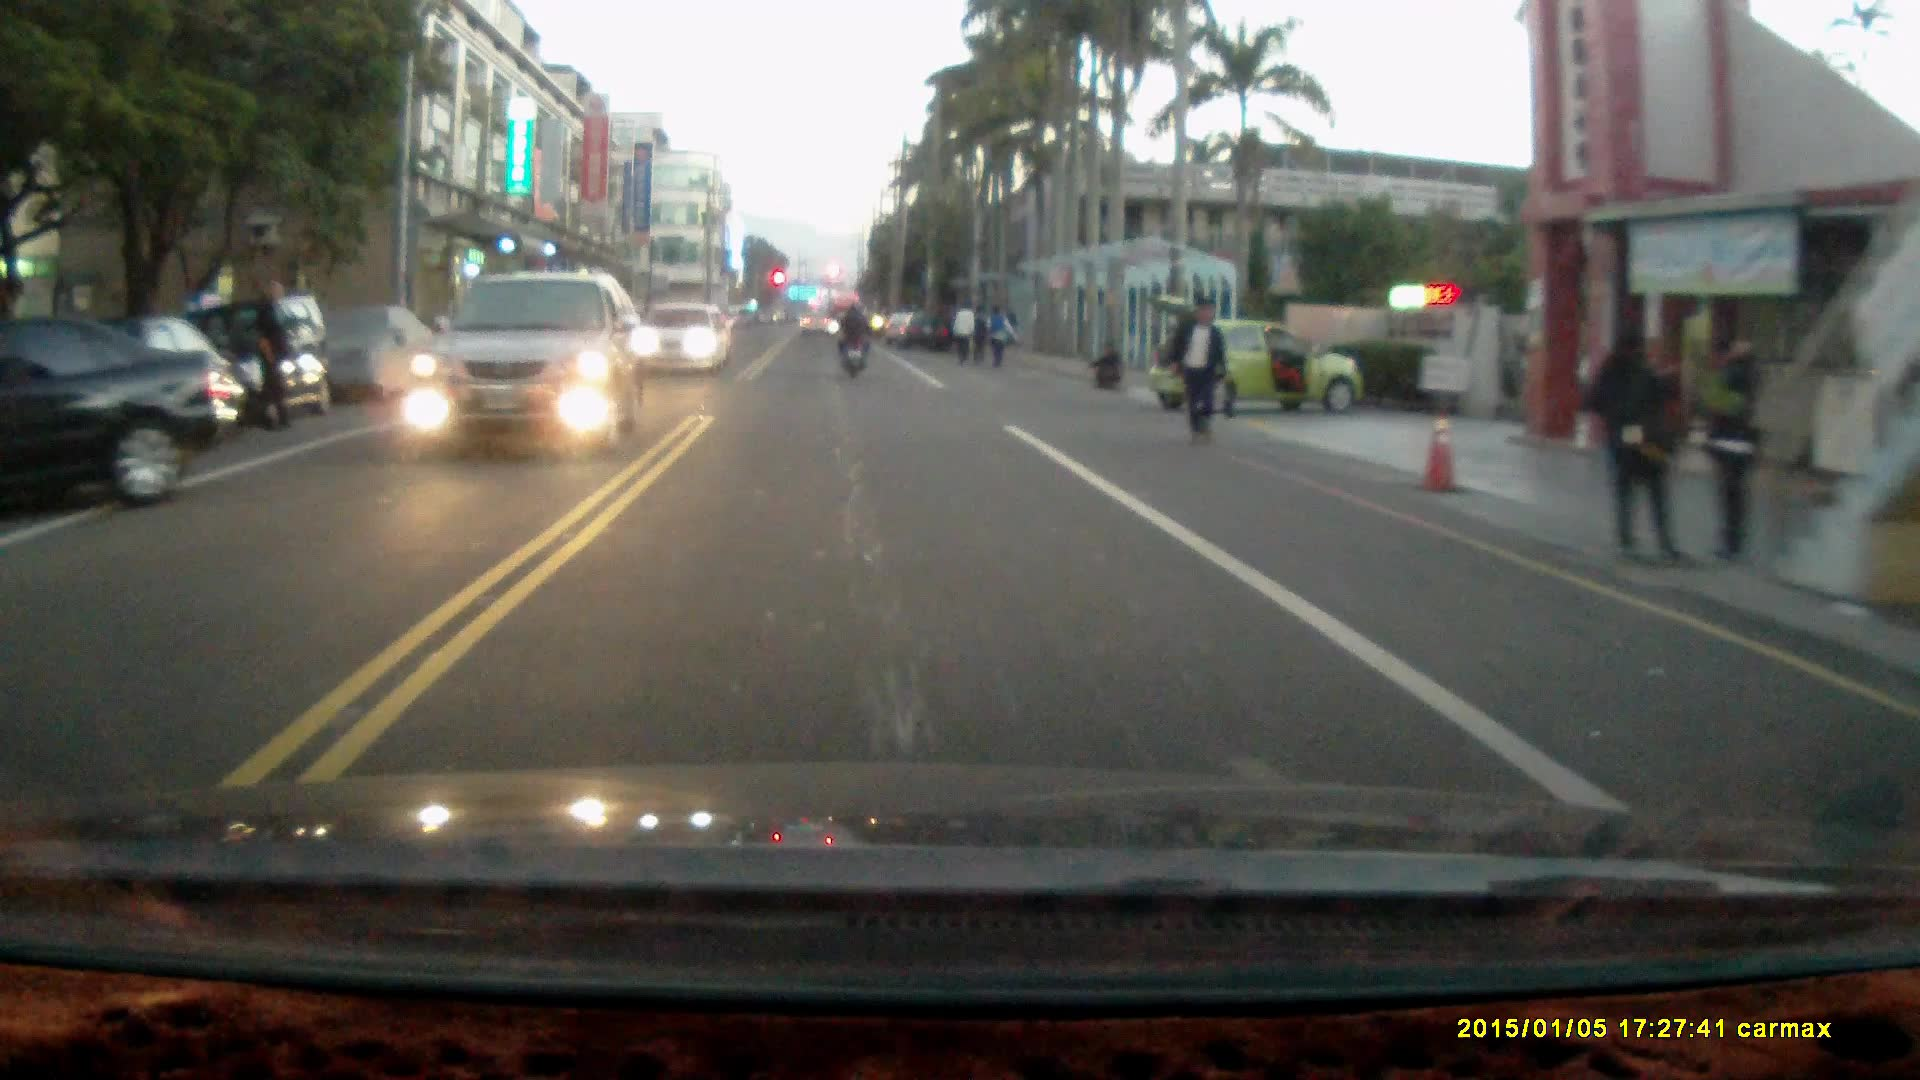pedestrian: (1582, 318, 1690, 569), (1702, 325, 1761, 566), (1167, 293, 1224, 444), (985, 300, 1011, 369), (1090, 335, 1122, 390), (952, 297, 974, 367), (970, 301, 990, 364)
rider: (833, 298, 873, 378)
vehicle: (0, 310, 241, 531), (414, 270, 650, 452), (1143, 294, 1373, 413), (182, 299, 336, 424), (637, 304, 735, 379)
